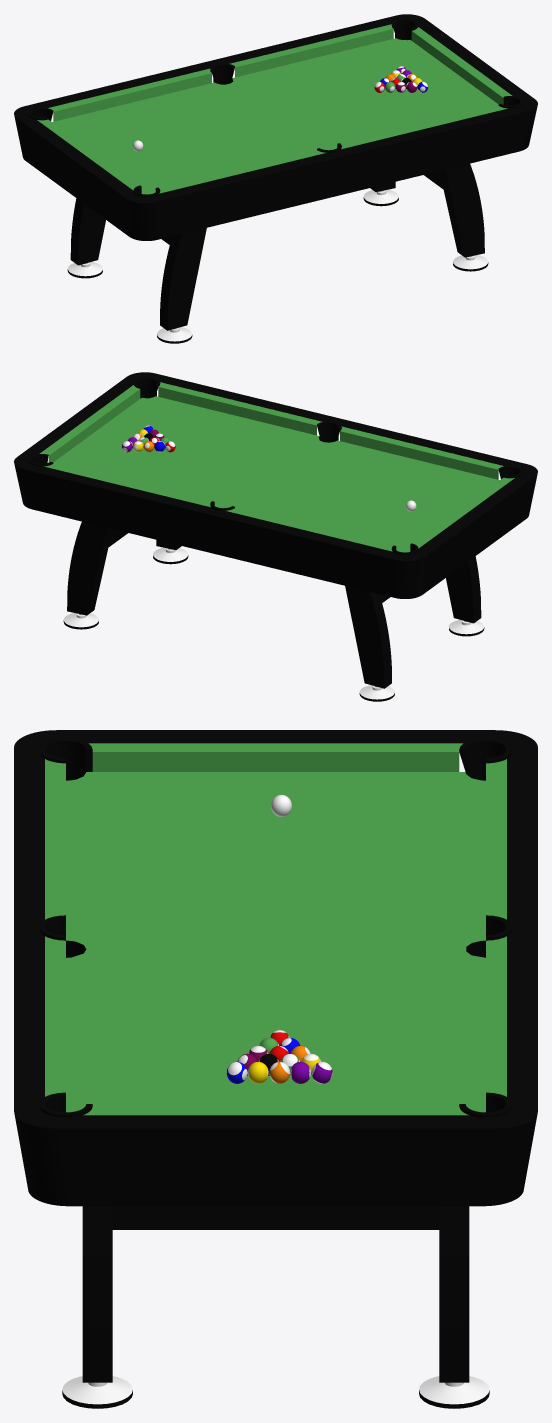
File: pool-table-7ft-medium.glb
3 views of the same model, one above another, from view 1: azimuth 30°, elevation 25°; view 2: azimuth 150°, elevation 25°; view 3: azimuth 270°, elevation 25° (orthographic). The views are drawn at different scales.
Parts seen in each view (by area): view 1: Mesh45 Group1 Model, Mesh3 Group3 Group1 Model, Mesh7 Group5 Group1 Model, Mesh1 Group2 Group1 Model, Mesh18 patte2 Group1 Model, Mesh36 patte4 Group1 Model, Mesh9 patte1 Group1 Model, Mesh27 patte3 Group1 Model; view 2: Mesh45 Group1 Model, Mesh1 Group2 Group1 Model, Mesh5 Group4 Group1 Model, Mesh3 Group3 Group1 Model, Mesh36 patte4 Group1 Model, Mesh18 patte2 Group1 Model, Mesh27 patte3 Group1 Model, Mesh9 patte1 Group1 Model; view 3: Mesh45 Group1 Model, Mesh46 Group1 Model, Mesh5 Group4 Group1 Model, Mesh7 Group5 Group1 Model, Mesh18 patte2 Group1 Model, Mesh36 patte4 Group1 Model.
Boxes of the visible parts, left/top/right/bottom form: Mesh45 Group1 Model: left=14, top=14, right=537, bottom=240; Mesh3 Group3 Group1 Model: left=160, top=228, right=206, bottom=330; Mesh7 Group5 Group1 Model: left=439, top=163, right=484, bottom=257; Mesh1 Group2 Group1 Model: left=70, top=198, right=105, bottom=265; Mesh18 patte2 Group1 Model: left=453, top=255, right=488, bottom=271; Mesh36 patte4 Group1 Model: left=363, top=189, right=398, bottom=206; Mesh9 patte1 Group1 Model: left=157, top=327, right=192, bottom=343; Mesh27 patte3 Group1 Model: left=67, top=262, right=102, bottom=278; Mesh45 Group1 Model: left=14, top=372, right=537, bottom=598; Mesh1 Group2 Group1 Model: left=345, top=586, right=391, bottom=688; Mesh5 Group4 Group1 Model: left=67, top=521, right=112, bottom=615; Mesh3 Group3 Group1 Model: left=446, top=556, right=481, bottom=623; Mesh36 patte4 Group1 Model: left=63, top=613, right=98, bottom=629; Mesh18 patte2 Group1 Model: left=153, top=547, right=188, bottom=564; Mesh27 patte3 Group1 Model: left=359, top=685, right=394, bottom=701; Mesh9 patte1 Group1 Model: left=449, top=620, right=484, bottom=636; Mesh45 Group1 Model: left=14, top=730, right=537, bottom=1206; Mesh46 Group1 Model: left=112, top=1206, right=439, bottom=1229; Mesh5 Group4 Group1 Model: left=439, top=1206, right=469, bottom=1382; Mesh7 Group5 Group1 Model: left=82, top=1206, right=112, bottom=1382; Mesh18 patte2 Group1 Model: left=62, top=1376, right=132, bottom=1408; Mesh36 patte4 Group1 Model: left=419, top=1376, right=489, bottom=1408.
Bounding box in the file's own units: 2.13 × 0.8001 × 1.18.
